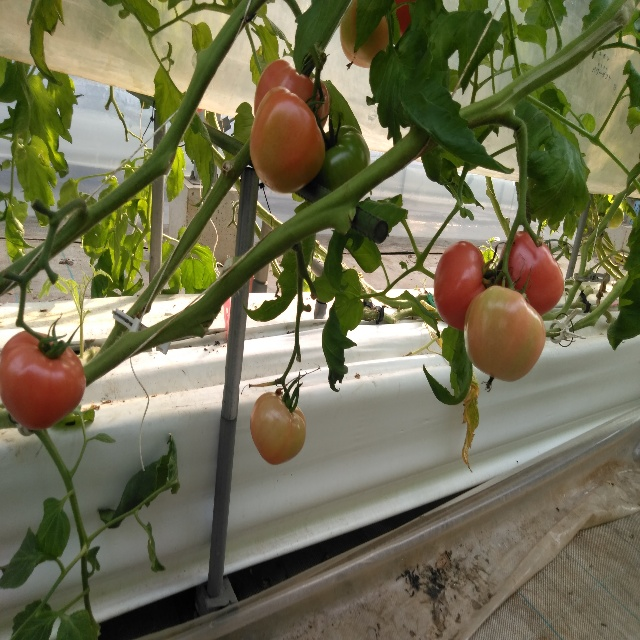b_fully_ripened: (0, 329, 86, 430), (497, 230, 565, 317), (433, 241, 495, 332)
b_green: (313, 124, 371, 193)
b_half_ripened: (249, 87, 326, 194), (464, 285, 546, 383), (254, 59, 330, 132), (249, 391, 306, 465), (340, 0, 389, 68)
